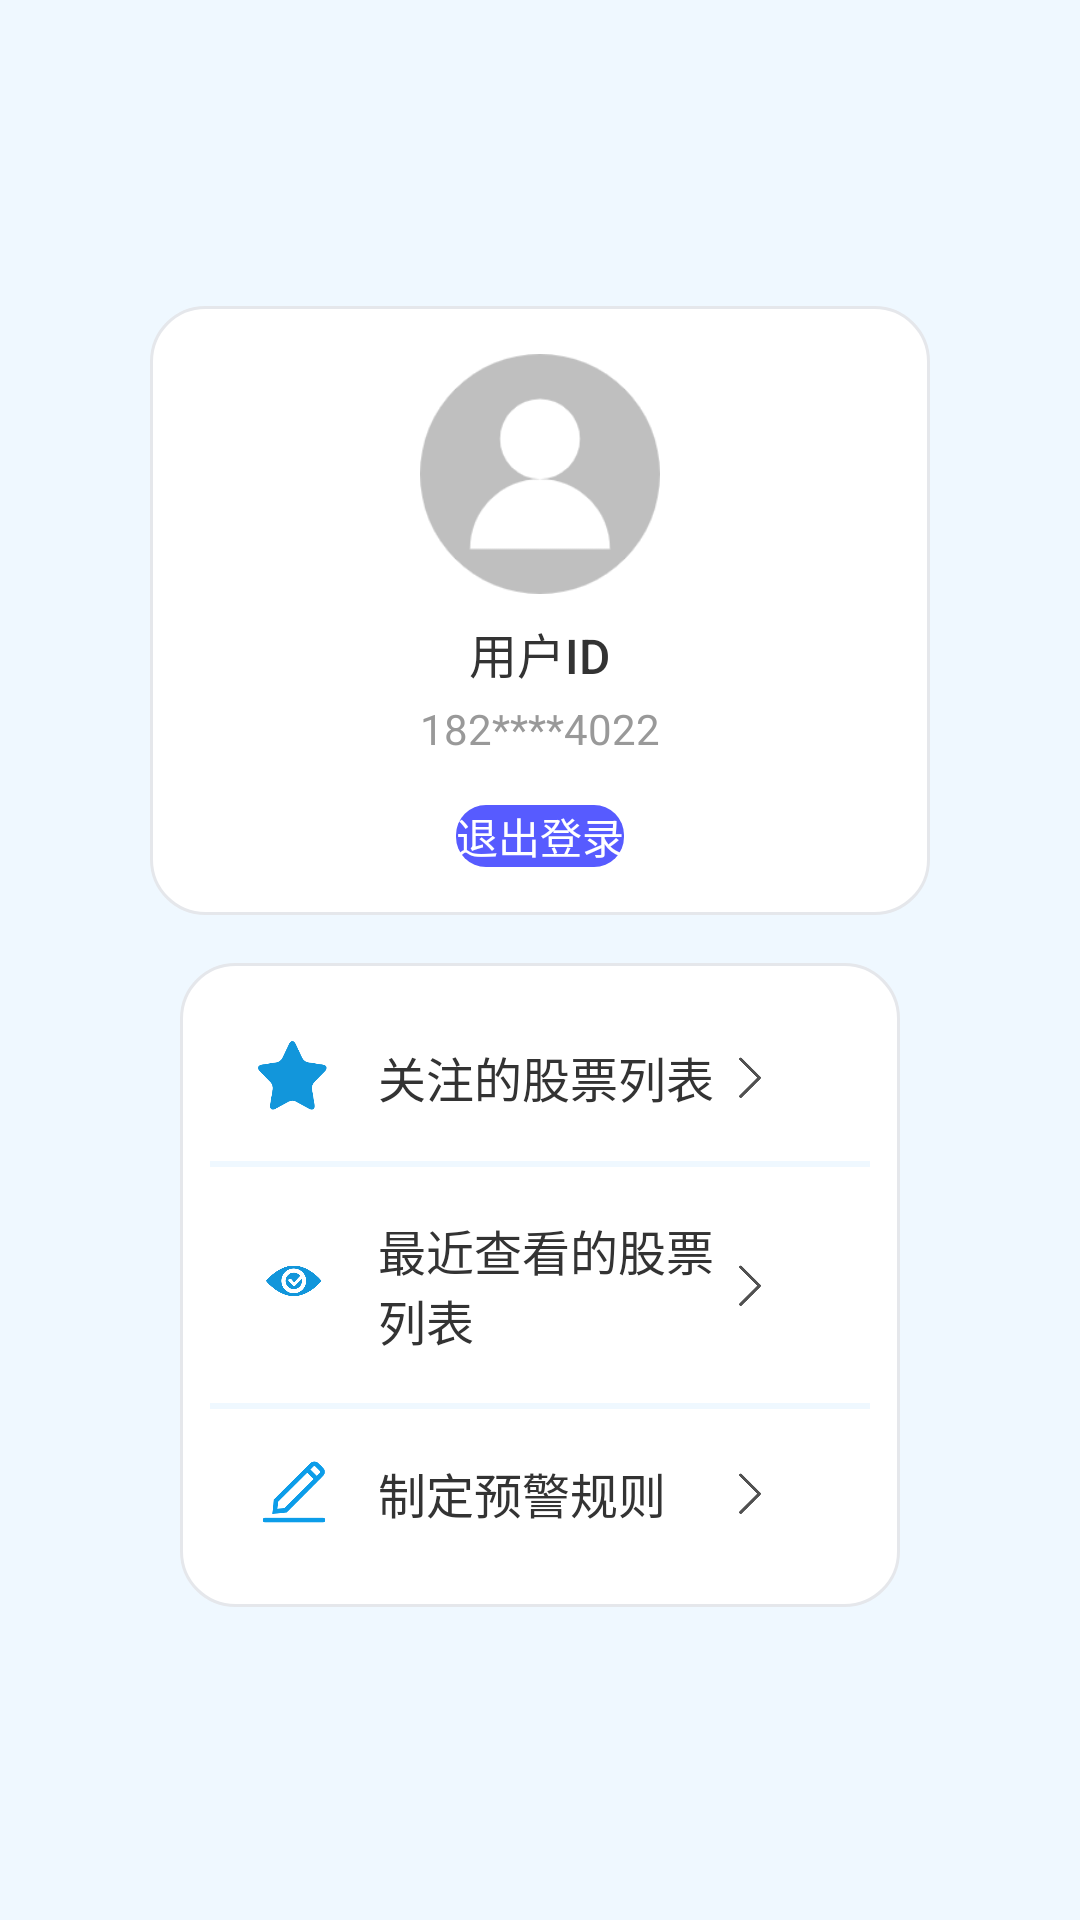

Named icons in this screenshot (1080×1920) and their bounding boxes, (x1, y1, x2, y2):
arrow: (739, 1057, 761, 1098), (739, 1265, 761, 1306), (739, 1473, 761, 1514)
edit: (263, 1461, 325, 1523)
pi photo: (420, 354, 660, 594)
saved: (258, 1041, 327, 1110)
